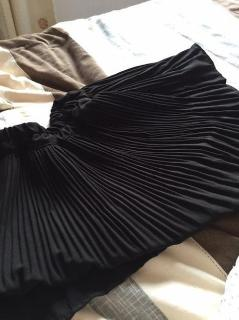skirt: (0, 42, 239, 319)
